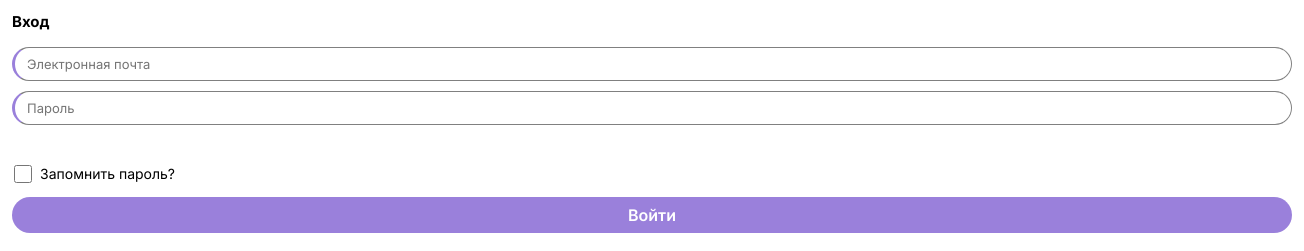
Test: AuthForm › отправка формы › при неверных данных показывает ошибку и разблокирует кнопку
Step 1. Type "wrong@example.com" into the field labelled "Электронная почта" → (652, 64), box [12, 46, 1292, 80]
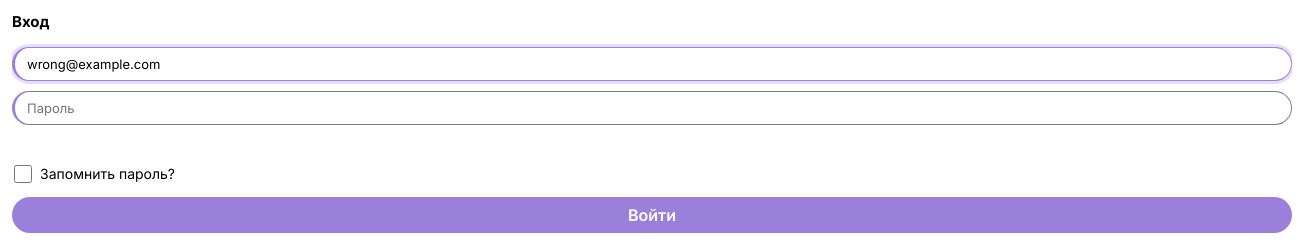
Step 2. Type "Password123" into the password field labelled "Пароль" → (652, 108), box [12, 90, 1292, 124]
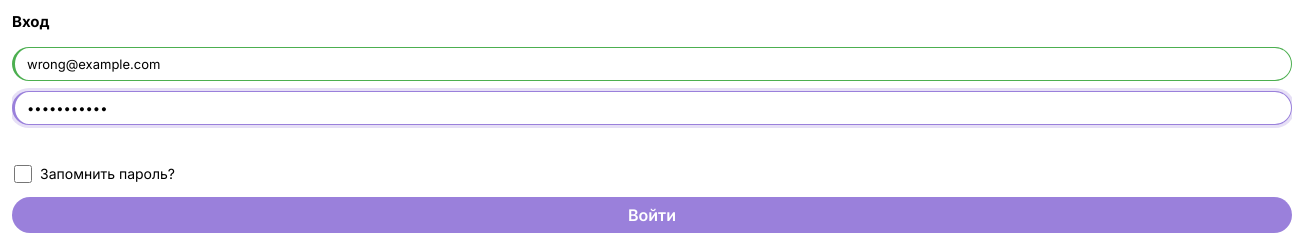
Step 3. Click the button "Войти" → (652, 214), box [12, 196, 1292, 232]
Wait 800 ms
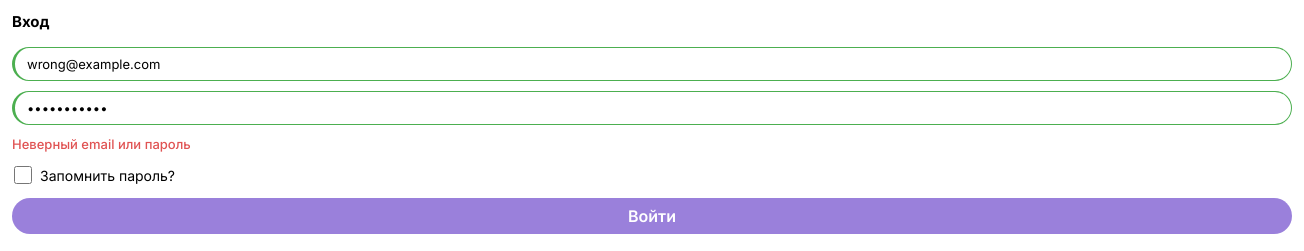
Check: the text "Неверный email или пароль" is shown, box [12, 136, 191, 152]
